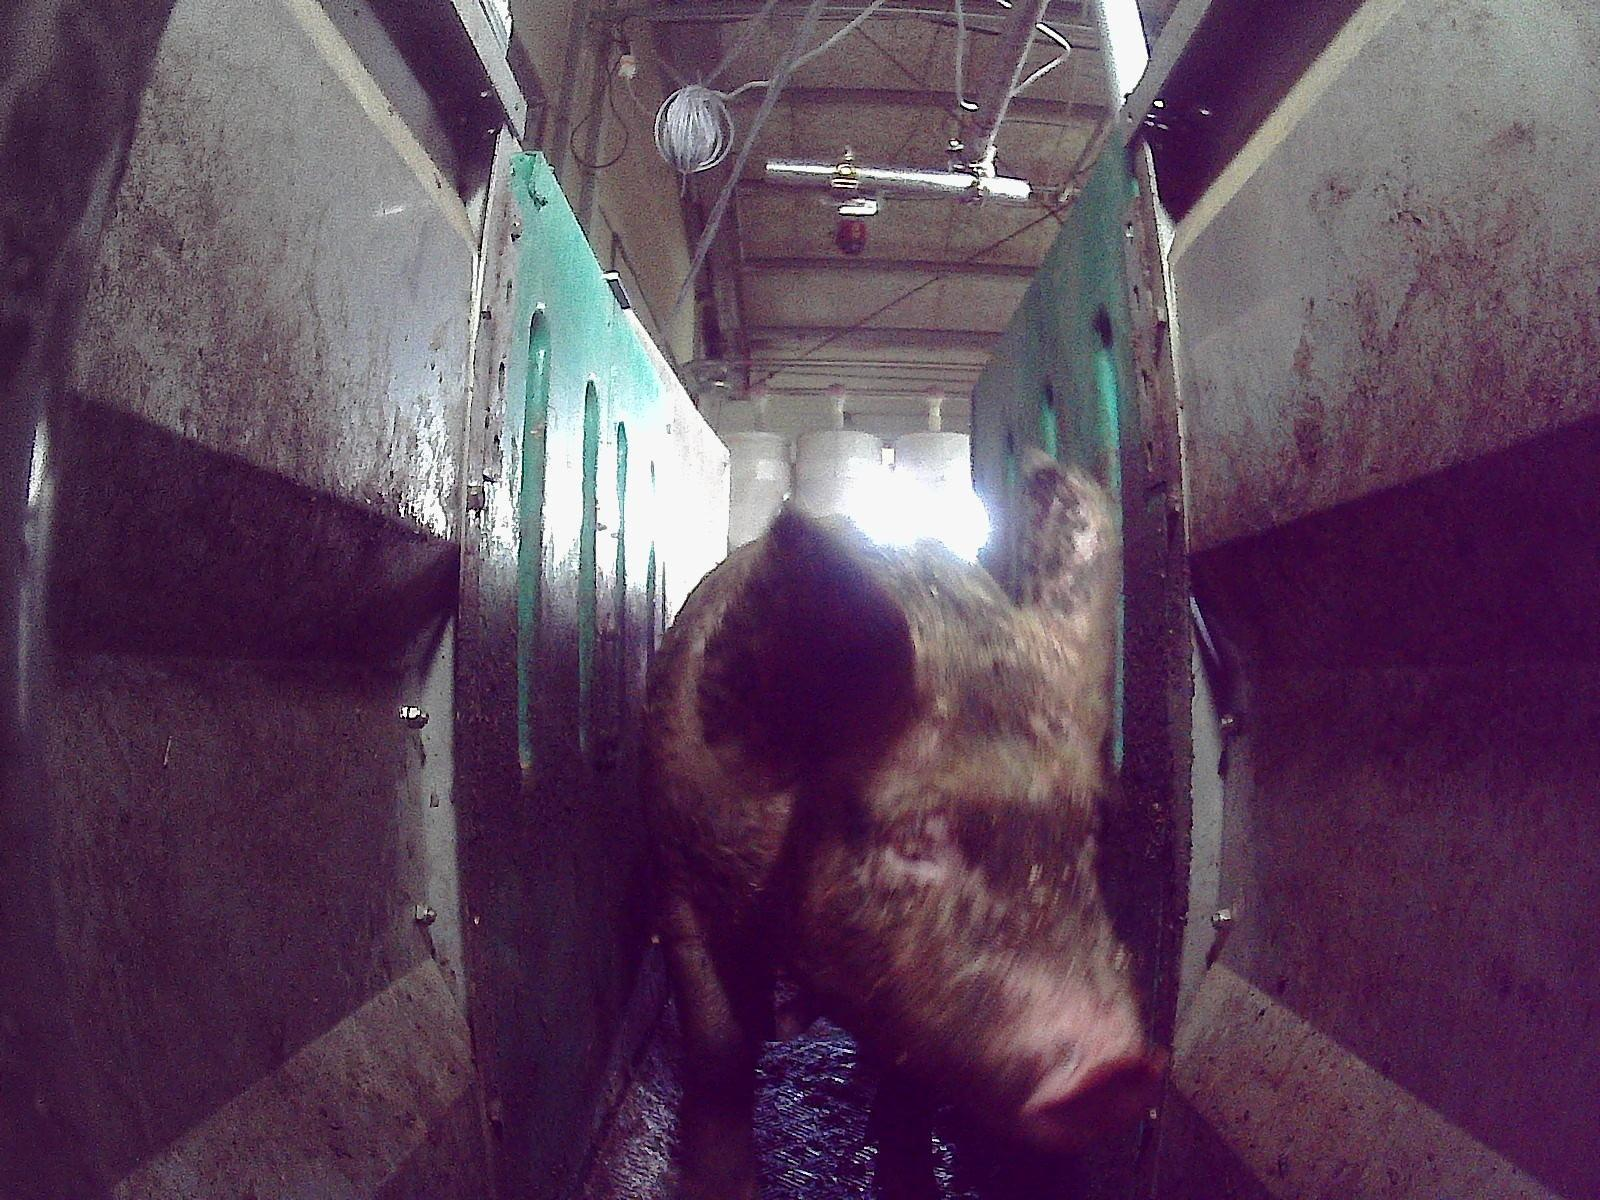Face: (789, 575, 1167, 1148)
